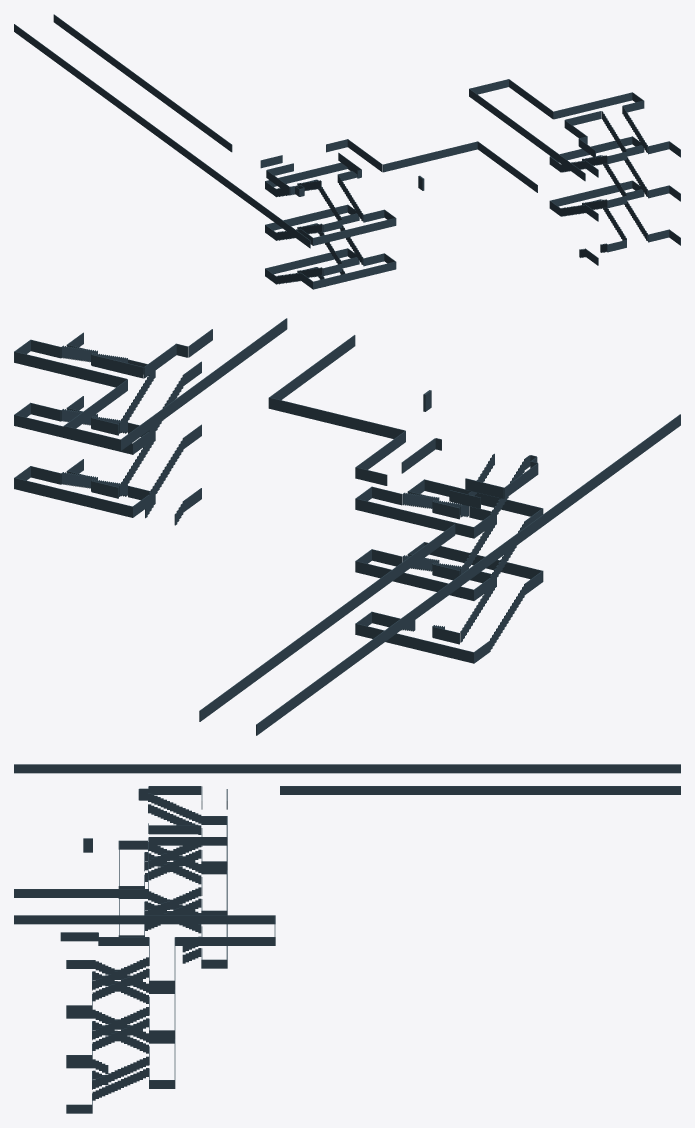
Rendered from v02-04-06-steel.glb.
3 renders of one model, top to bottom at view 1: azimuth 30°, elevation 25°; view 2: azimuth 150°, elevation 25°; view 3: azimuth 270°, elevation 25°, orthographic. The views are drawn at different scales.
Parts seen in each view (by area): view 1: v02-04-06-steel; view 2: v02-04-06-steel; view 3: v02-04-06-steel.
Part boxes in pixels (x1=…): v02-04-06-steel: x1=14, y1=14, x2=680, y2=289; v02-04-06-steel: x1=14, y1=318, x2=680, y2=735; v02-04-06-steel: x1=14, y1=764, x2=680, y2=1113.
Bounding box in the file's own units: 58.79 × 18.12 × 76.5.
